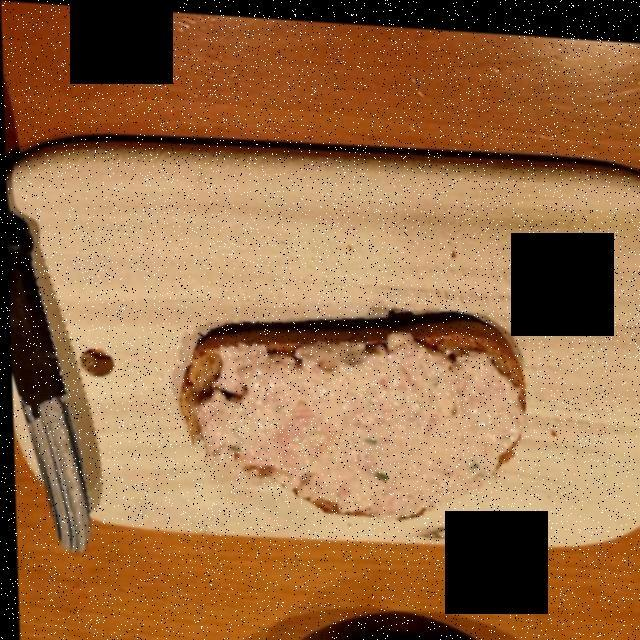bread: (187, 305, 524, 518)
ham: (201, 334, 521, 505)
